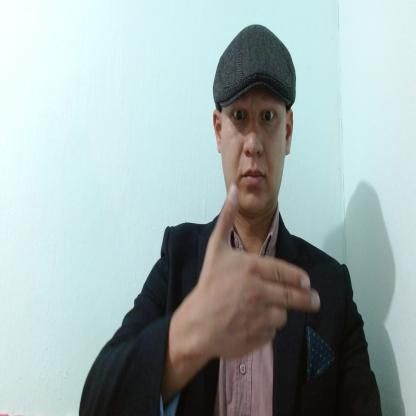H: (199, 180, 321, 360)
